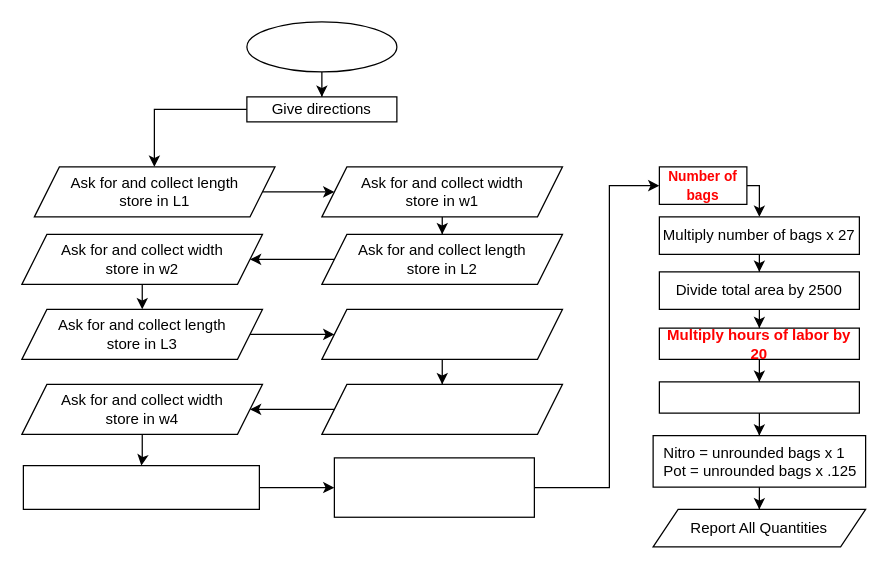
Image size: 888x569. Some labels were removed from this diagram. The box of each missing label's shape, as (x1, y1, x2, y2) in pixels:
Add cost of fertilizer and labor: (658, 381, 859, 413)
Ask for and collect length store in L4: (321, 383, 562, 434)
Ask for and collect width store in w3: (321, 308, 562, 359)
Calculate the total area: (22, 464, 259, 509)
Divide total area by 2000: (333, 457, 534, 517)
Start: (246, 21, 397, 72)
